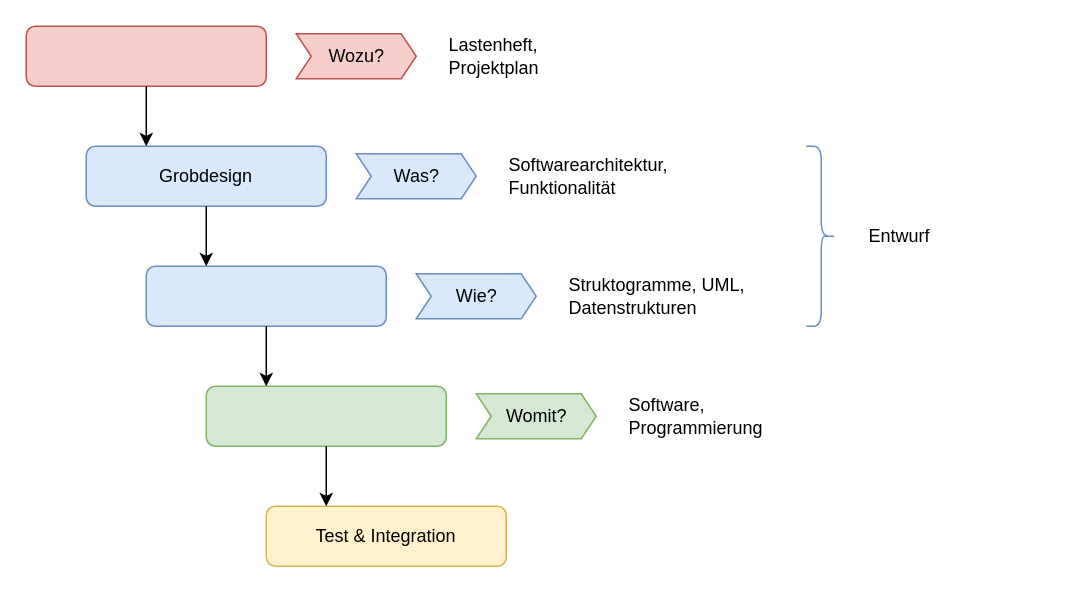
Some shapes in this 1073 by 593 pixel diagram are drawn without their labels. The shapes that lost their labels are listed below. From the top down, each one's centre as x and y in pixels, then its label:
At point 145,55: "Anforderungsanalyse".
At point 265,295: "Feindesign".
At point 325,415: "Implementierung".
